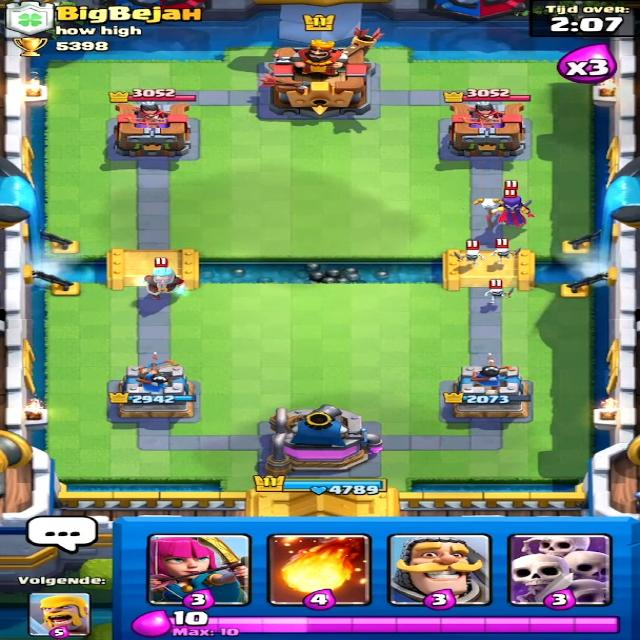Enemy_Ice_Wizard_Troop: (134, 262, 193, 305)
Enemy_Skeleton_Troop: (476, 280, 516, 308), (492, 236, 524, 262), (462, 244, 489, 272)
Enemy_Witch_Troop: (471, 193, 531, 231)
Fireball_Card: (271, 534, 372, 606)
